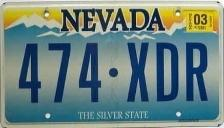4: (17, 41, 47, 106), (77, 41, 105, 105)
7: (47, 41, 74, 105)
D: (155, 40, 180, 103)
R: (184, 40, 211, 103)
X: (123, 40, 154, 103)
